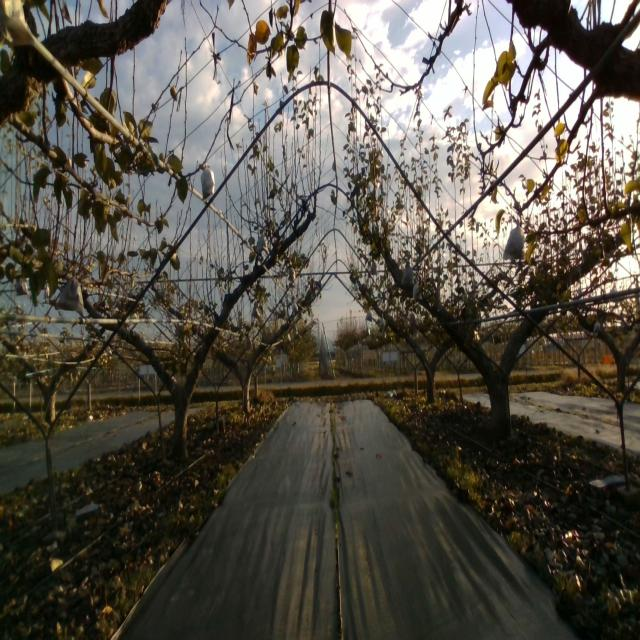pearbags: (502, 219, 524, 260), (200, 161, 215, 201), (254, 231, 270, 255), (400, 261, 414, 286)
